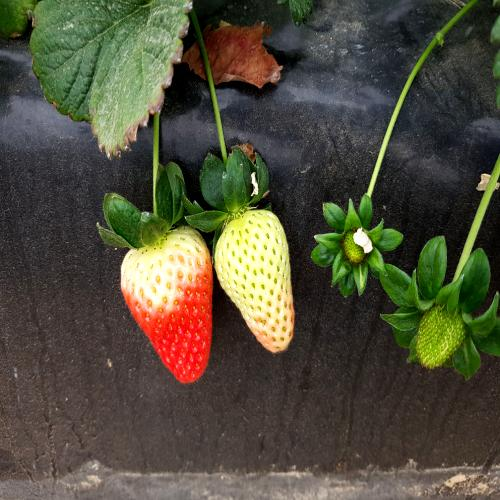partially-ripe: (114, 218, 212, 392), (212, 196, 308, 364)
